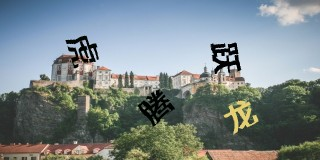腾: (136, 87, 174, 128)
虎: (64, 34, 99, 68)
跃: (209, 40, 241, 74)
龙: (223, 98, 258, 134)
